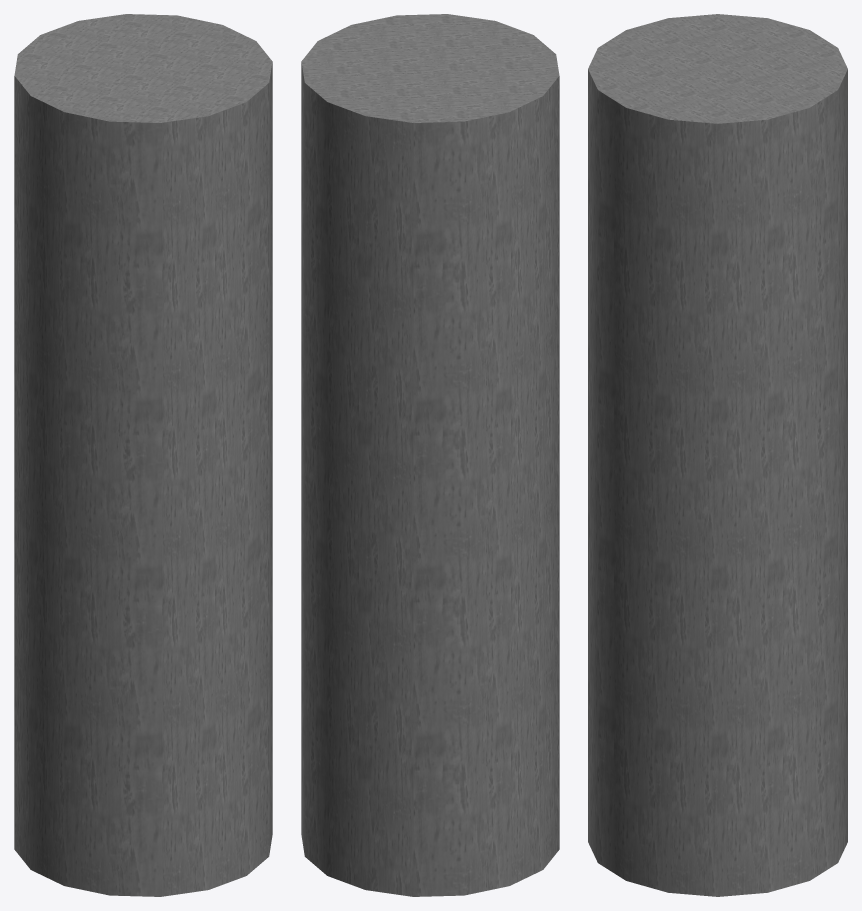
The model's file is mrt pillar.fbx.
3 views of the same model, side by side, from view 1: azimuth 30°, elevation 25°; view 2: azimuth 150°, elevation 25°; view 3: azimuth 270°, elevation 25° (orthographic).
Visible parts, largest first — view 1: mrt_station:pillar; view 2: mrt_station:pillar; view 3: mrt_station:pillar.
Part boxes in pixels (x1,y1,x2,y2): mrt_station:pillar: [14, 14, 272, 896]; mrt_station:pillar: [301, 14, 559, 896]; mrt_station:pillar: [588, 14, 847, 896].
Bounding box in the file's own units: 257 × 844 × 257.
Materials: 1 (1 with a texture image).
